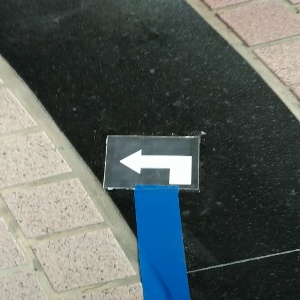left: (103, 133, 199, 190)
